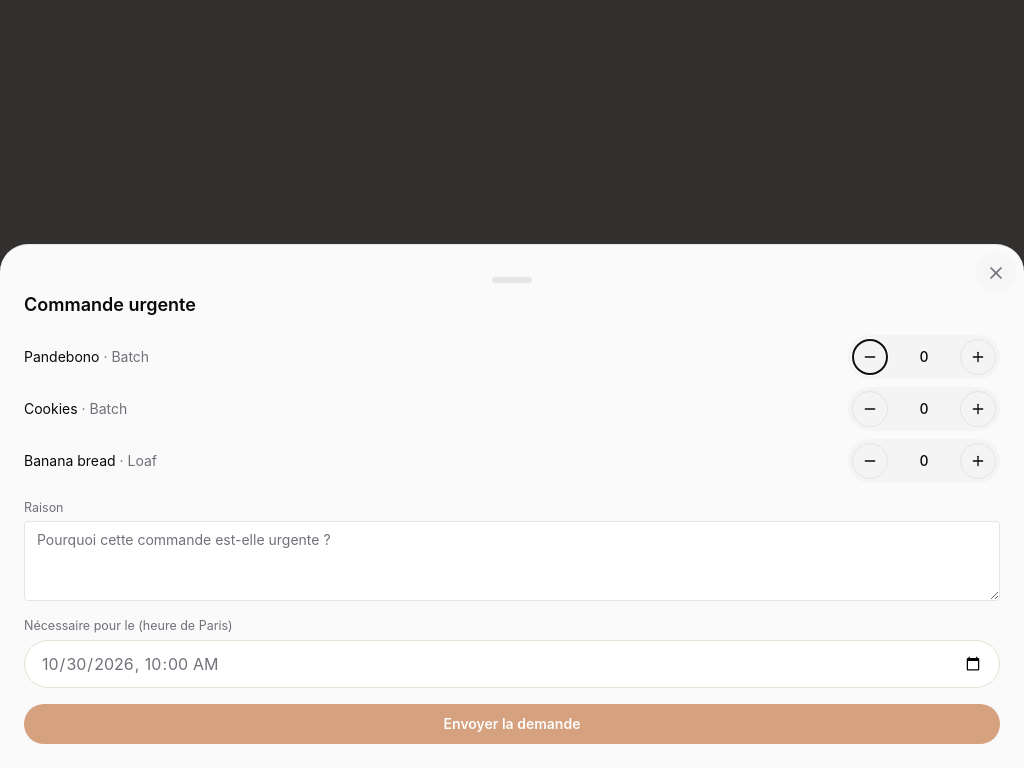
Test case: UrgentOrderSheet › disables submit with an empty reason
This screenshot has width=1024, height=768.
Click the button named "Augmenter la quantité" in the row of "Pandebono".
click(978, 356)  # box [960,338,996,374]
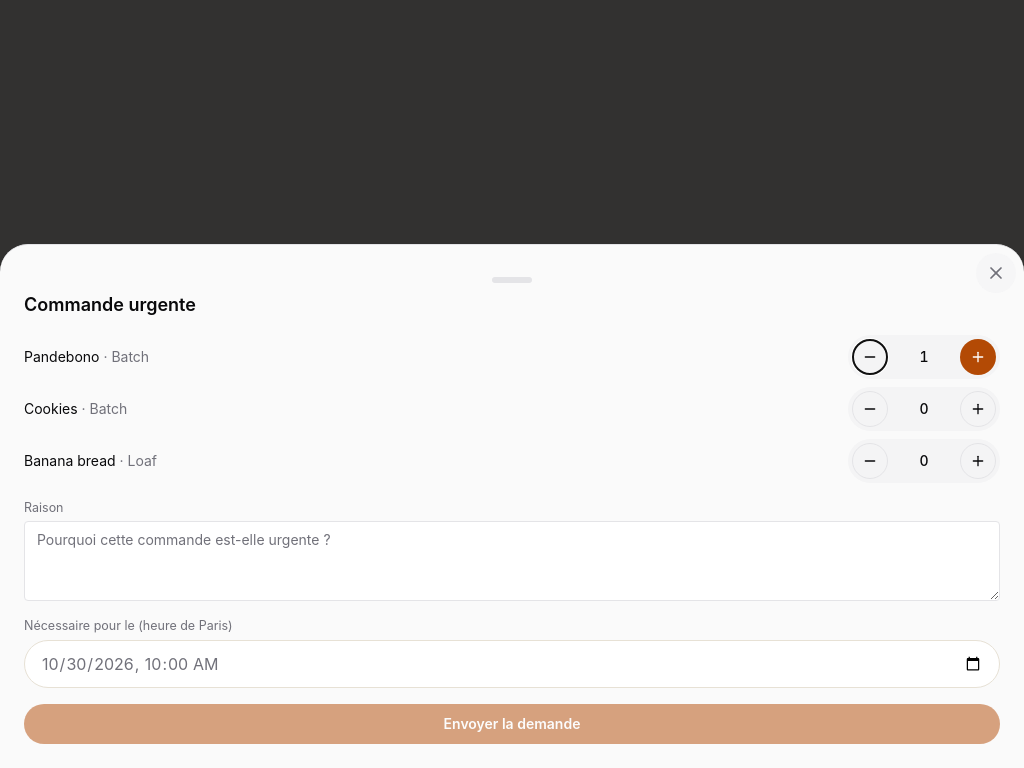
Check: the button "Envoyer la demande" is disabled, box [24,704,1000,744]
Type "Rupture" into the text box with placeholder "Pourquoi cette commande est-elle urgente ?".
click(512, 561); type("Rupture")  # box [24,521,1000,601]
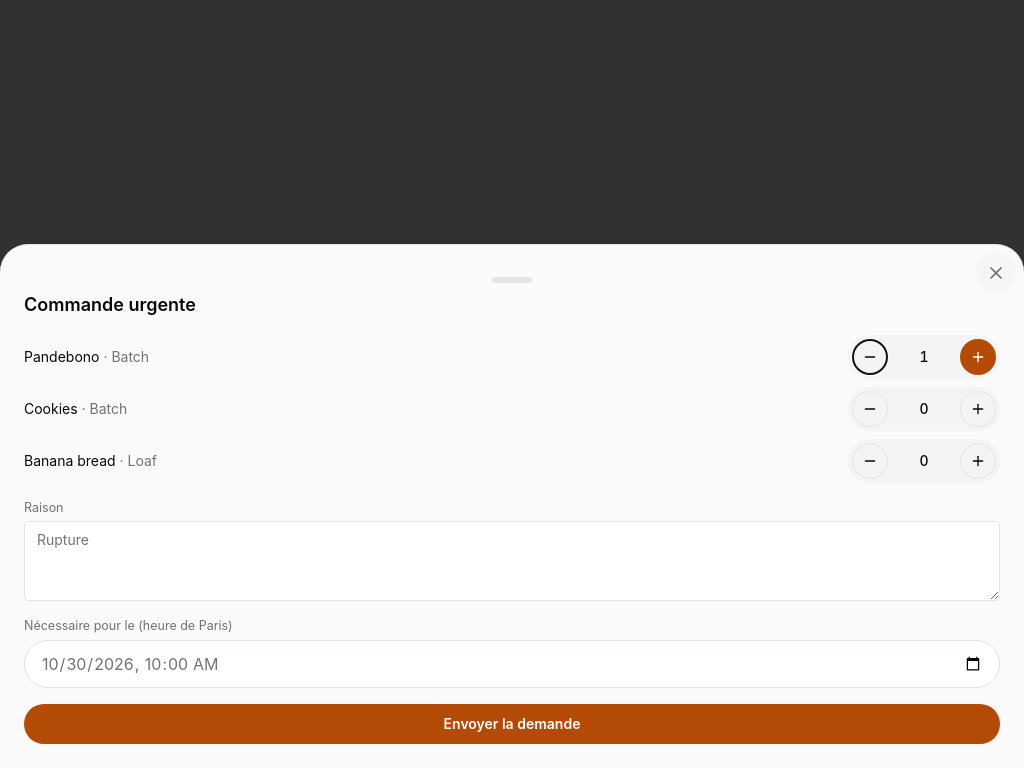
Check: the button "Envoyer la demande" is enabled, box [24,704,1000,744]
